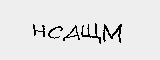Д: (62, 24, 81, 43)
М: (100, 22, 123, 44)
Н: (29, 21, 48, 41)
С: (47, 24, 64, 41)
Щ: (79, 21, 103, 44)
